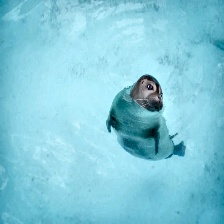seal: (106, 74, 180, 161)
